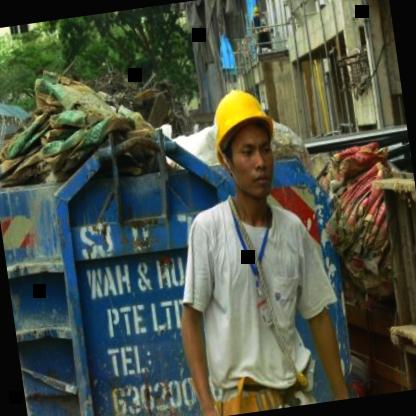helmet: (198, 68, 290, 209)
